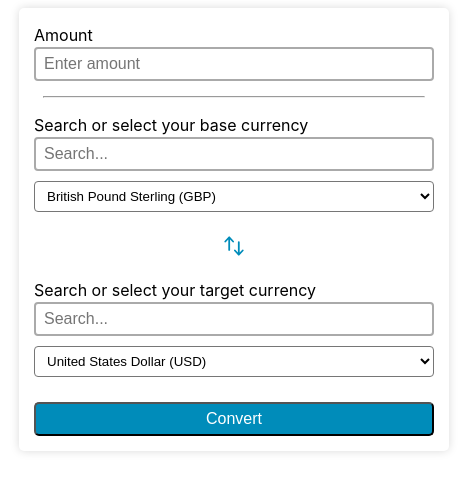
Scenario: CurrencyConverter › should be able to provide validation if an invalid number is submitted
This screenshot has width=469, height=494.
Type "abc" into the field labelled "Amount".
click(234, 64); type("abc")  # box [34,47,434,81]
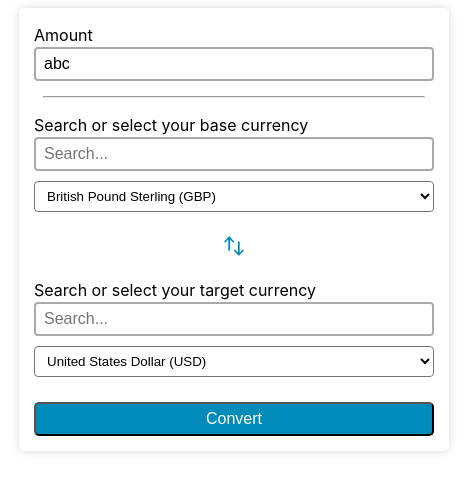
Select "British Pound Sterling (GBP)" in the dropdown with test id "base-currency" at (234, 196), box [34,181,434,212]
Select "United States Dollar (USD)" in the dropdown with test id "target-currency" at (234, 362), box [34,346,434,377]
Click the button "Convert".
click(234, 419)  # box [34,402,434,436]
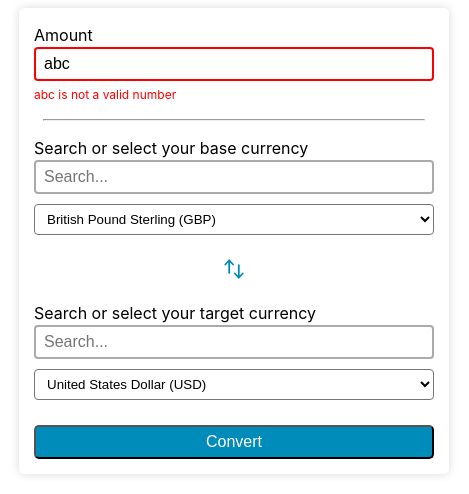
Expected: the text "abc is not a valid number" is shown, [34,87,176,102]
